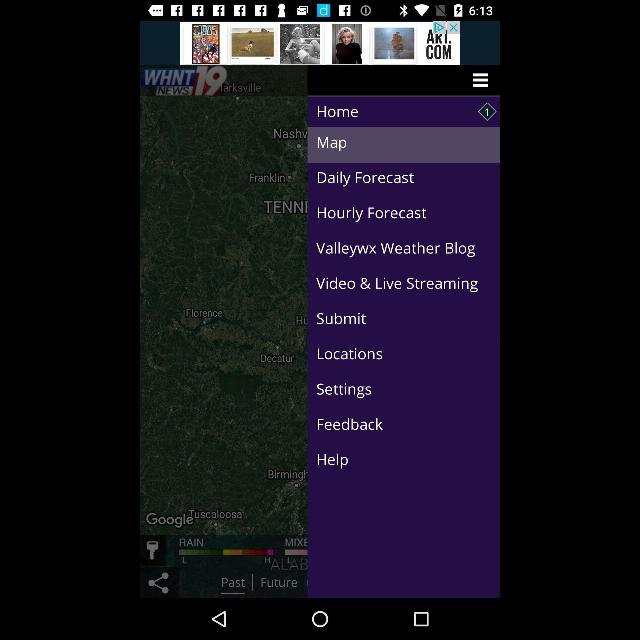icon: (147, 570, 171, 594), (477, 102, 497, 122), (210, 608, 228, 630), (310, 610, 330, 628), (471, 72, 489, 90), (412, 610, 430, 628), (146, 540, 160, 562)
iframe: (180, 22, 460, 64)
image: (142, 66, 262, 94)
map: (141, 96, 307, 534)
panel: (310, 96, 500, 602), (142, 601, 500, 639)
textbutton: (308, 300, 500, 338), (308, 228, 500, 264), (308, 264, 500, 300), (308, 127, 500, 161), (308, 162, 500, 196), (307, 374, 499, 408), (308, 196, 500, 228), (308, 340, 500, 372), (308, 440, 500, 472), (308, 95, 500, 126), (308, 408, 500, 439), (260, 576, 298, 592), (220, 576, 247, 592)
uppertaskbar: (140, 0, 500, 18)
